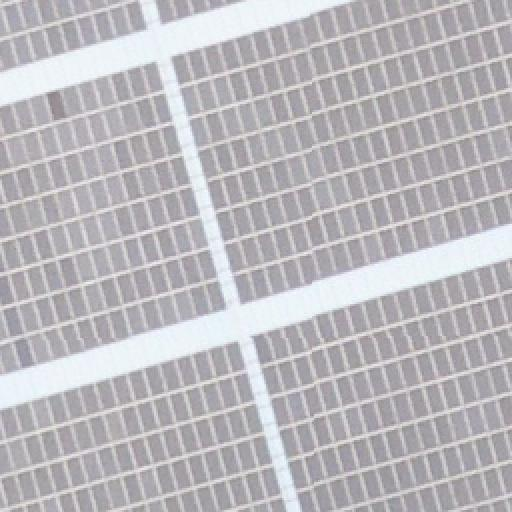solar-panel: (169, 0, 511, 304), (0, 63, 228, 377), (249, 257, 511, 511), (0, 344, 288, 512), (0, 0, 144, 72), (157, 0, 251, 26)
